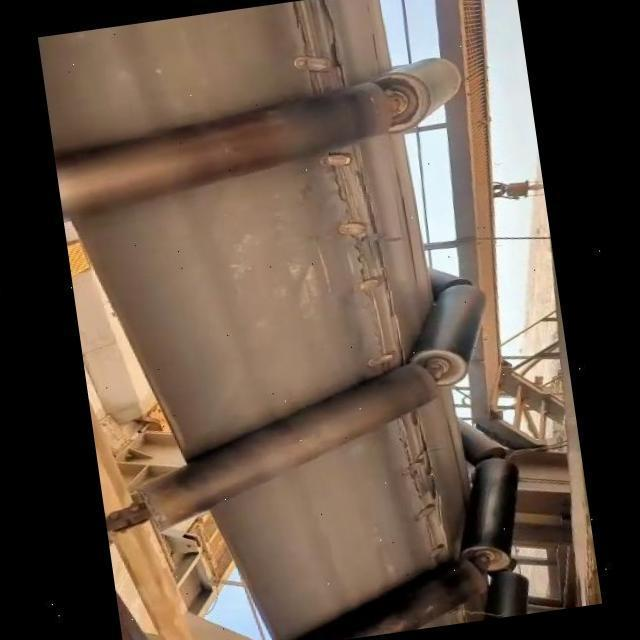Tear: (328, 156, 412, 354), (374, 411, 466, 566), (284, 0, 356, 99)
